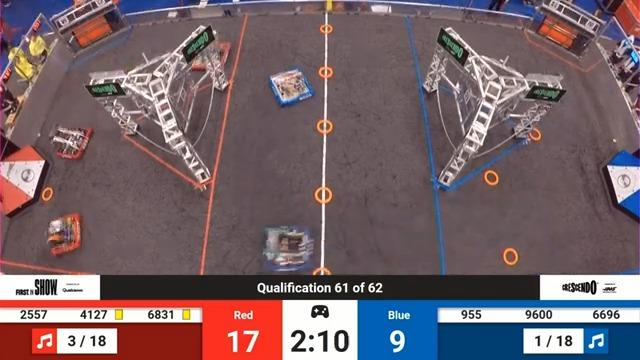robot: (258, 213, 321, 277), (41, 208, 91, 261), (47, 119, 97, 164), (268, 67, 316, 109), (191, 28, 232, 74)
